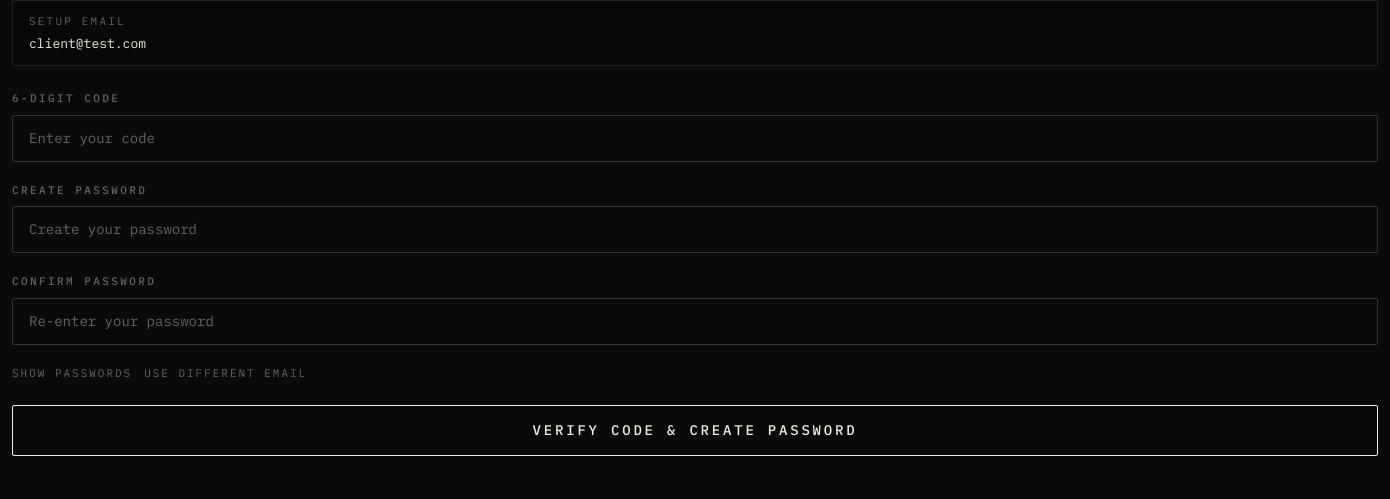
Test case: ClientVerifySetupCodeForm › shows validation error when passwords do not match
Type "123456" into the field labelled "6-Digit Code" at [695, 138], box [12, 114, 1378, 162]
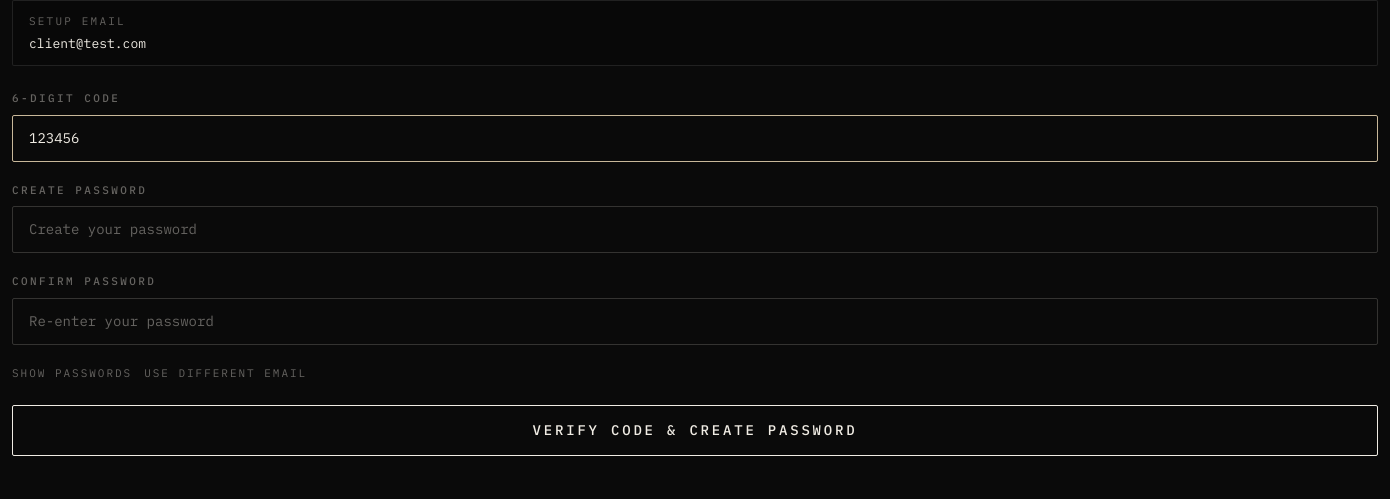
Type "password123" into the password field labelled "Create Password" at [695, 230], box [12, 206, 1378, 253]
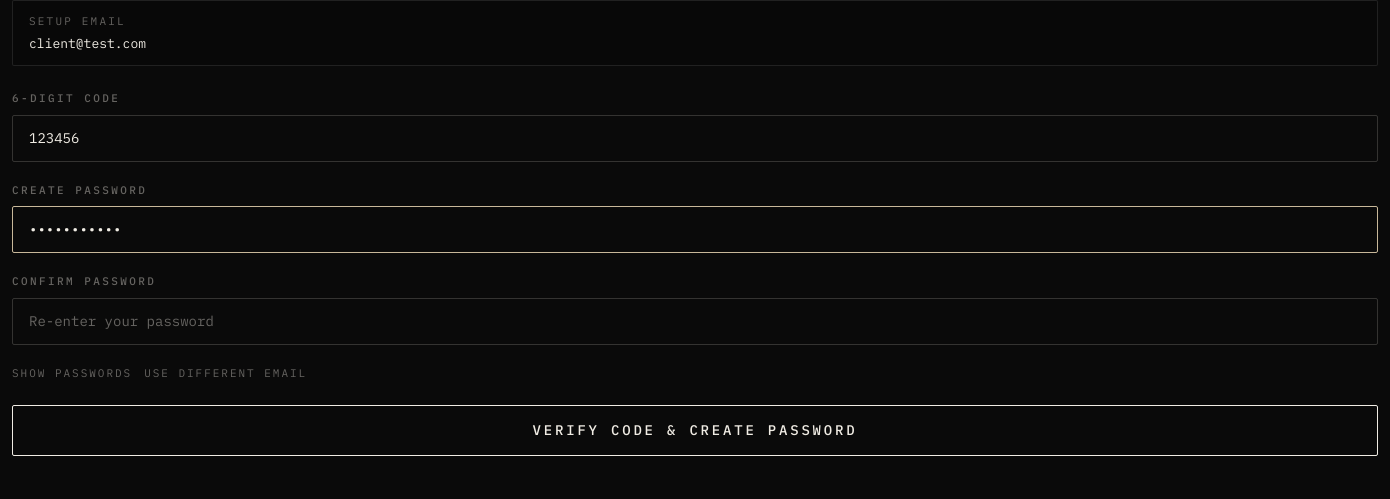
Type "password456" into the password field labelled "Confirm Password" at [695, 321], box [12, 298, 1378, 344]
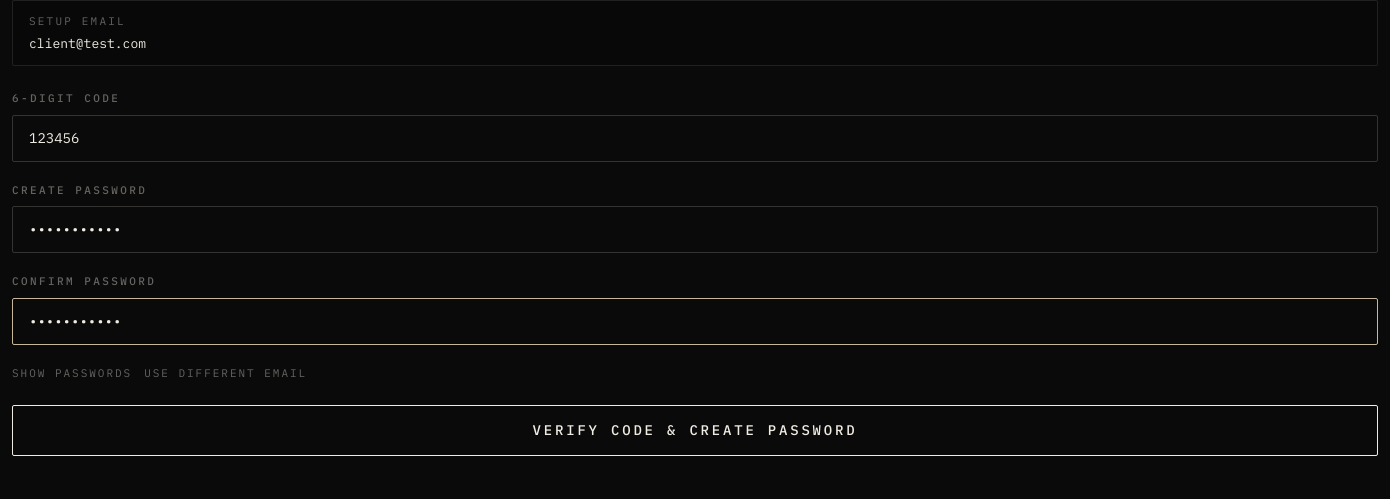
Click the button "Verify Code & Create Password" at [695, 430], box [12, 405, 1378, 456]
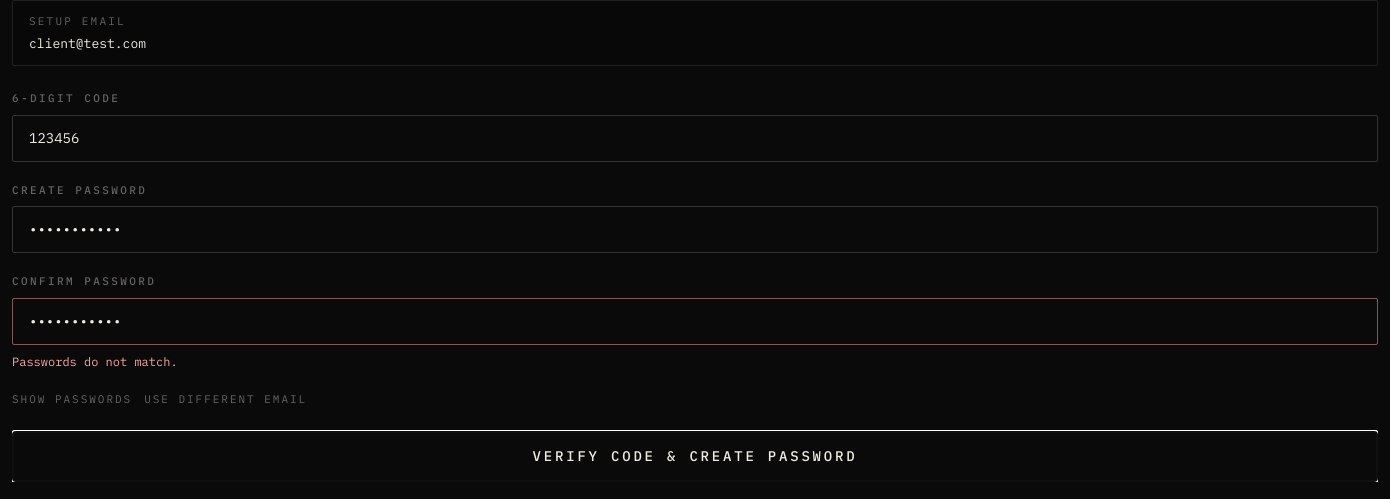
Check: the text "Passwords do not match." is shown, box [12, 354, 178, 368]
